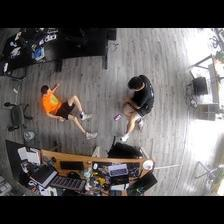fall: (40, 82, 96, 137), (115, 74, 154, 142)
